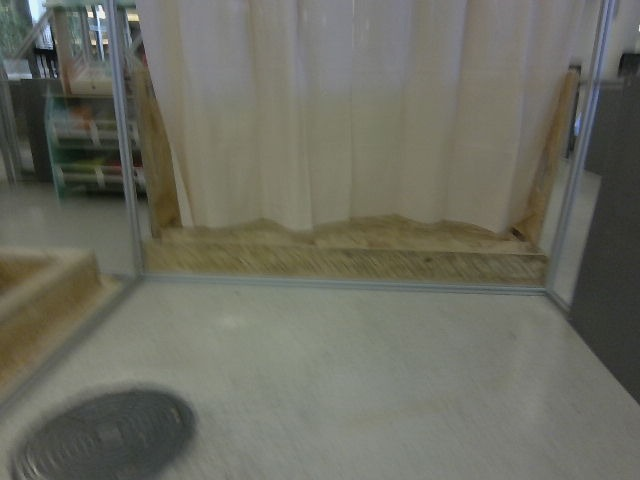curtain: (141, 0, 563, 245)
